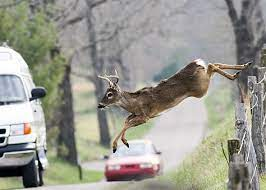deer: (98, 57, 253, 152)
